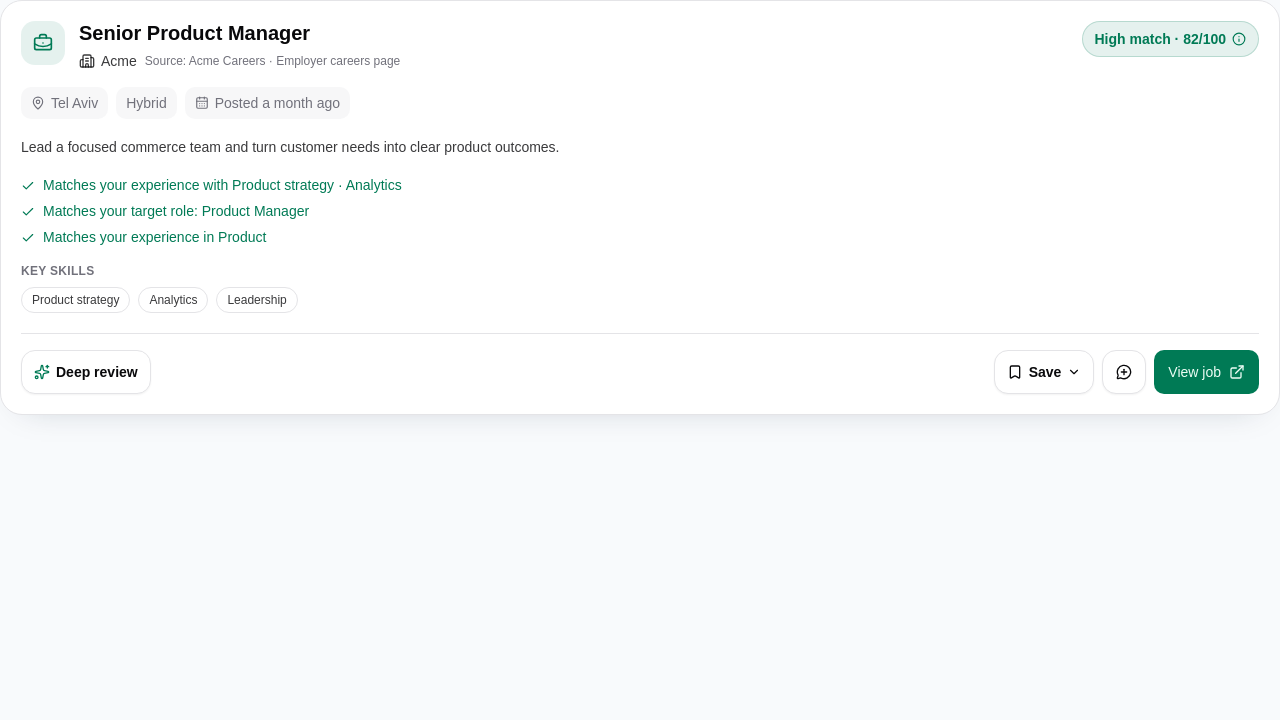
Test: job result cards › shows the deterministic score and its exact point breakdown
Hover over the button with aria-label "High match, match score 82 out of 100 — show calculation": (1170, 39) [1082, 21, 1259, 57]
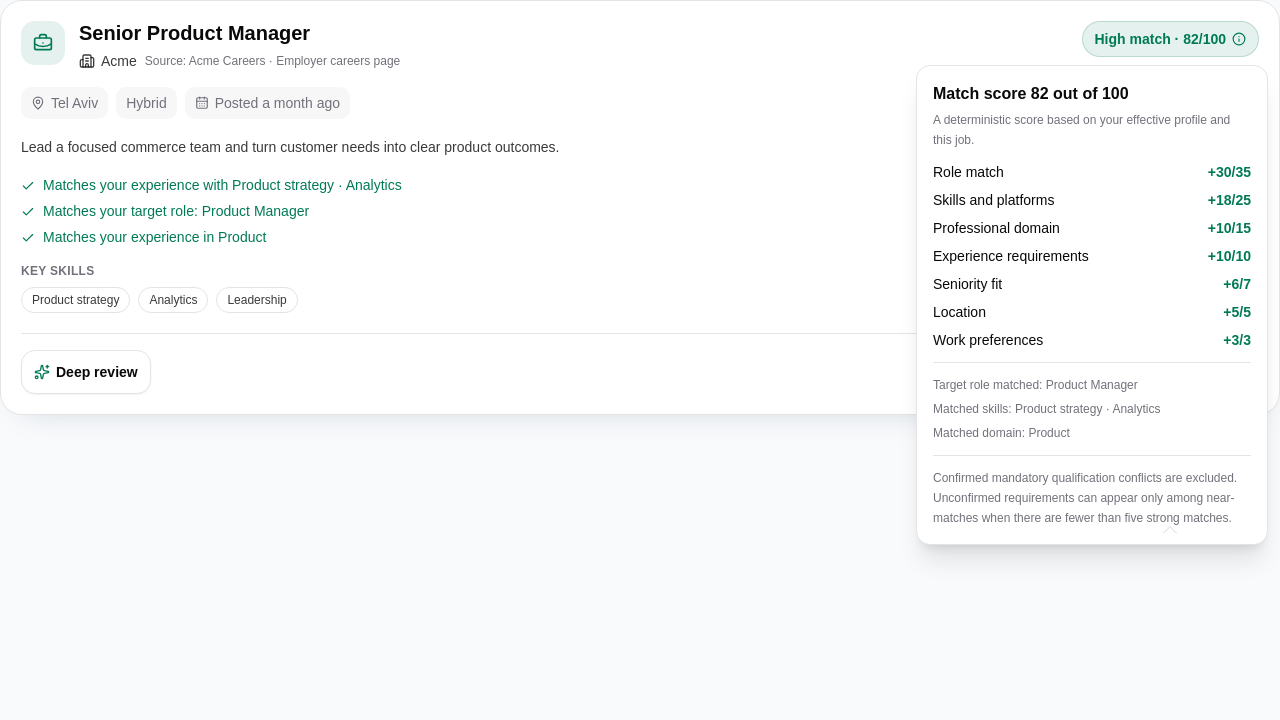
Check: the text "Role match" is shown, box [933, 162, 1004, 182]
Check: the text "+30/35" is shown, box [1208, 162, 1251, 182]
Check: the text "+18/25" is shown, box [1208, 190, 1251, 210]
